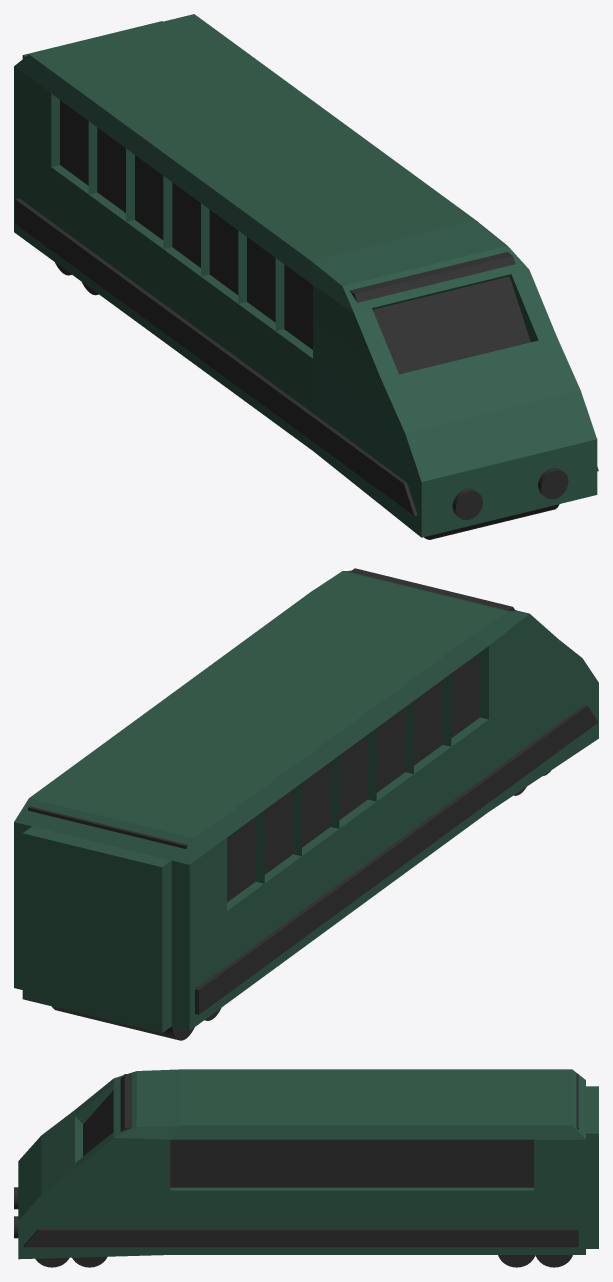
Rendered from Train.fbx.
3 renders of one model, top to bottom at view 1: azimuth 30°, elevation 25°; view 2: azimuth 150°, elevation 25°; view 3: azimuth 270°, elevation 25°, orthographic. The views are drawn at different scales.
Parts seen in each view (by area): view 1: Fenêtre; view 2: Fenêtre; view 3: Fenêtre.
Boxes of the visible parts, bbox=[...] form: Fenêtre: bbox=[14, 14, 598, 539]; Fenêtre: bbox=[14, 568, 598, 1040]; Fenêtre: bbox=[14, 1069, 598, 1267].
Bounding box in the file's own units: 390 × 434 × 1542.
